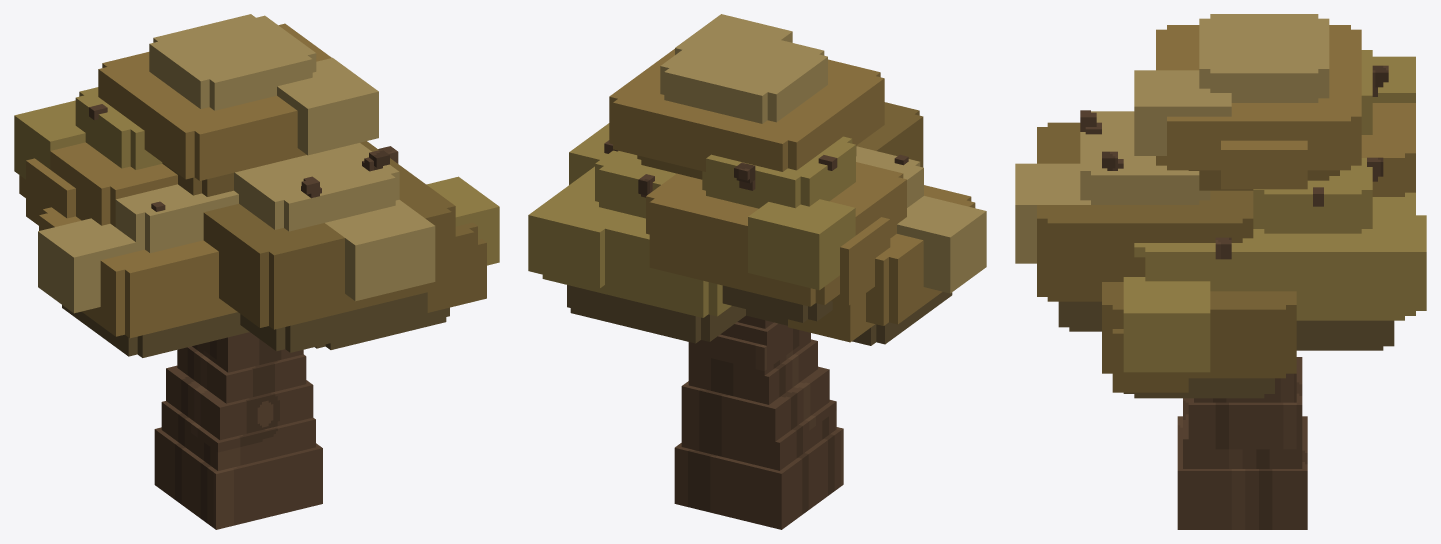
The model's file is apple_mature_autumn_2.glb.
The picture shows the model from 3 angles, left to right: view 1: azimuth 30°, elevation 25°; view 2: azimuth 150°, elevation 25°; view 3: azimuth 270°, elevation 25°; orthographic projection. The views are drawn at different scales.
Parts seen in each view (by area): view 1: VoxelVisual; view 2: VoxelVisual; view 3: VoxelVisual.
Part boxes in pixels (bbox=[...]): VoxelVisual: bbox=[14, 14, 499, 529]; VoxelVisual: bbox=[528, 14, 986, 529]; VoxelVisual: bbox=[1015, 14, 1426, 529].
Size of what is drawn, in the model's own units: 11.25 by 11.75 by 9.5.
